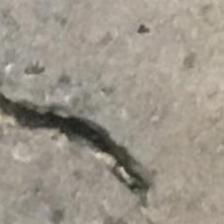Crack: (0, 88, 178, 206)
